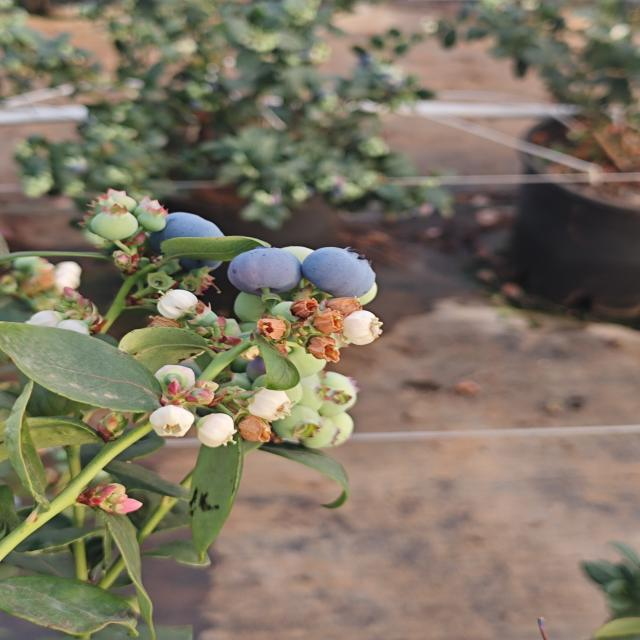ripe: (143, 209, 229, 278), (300, 243, 382, 301), (225, 243, 305, 296)
